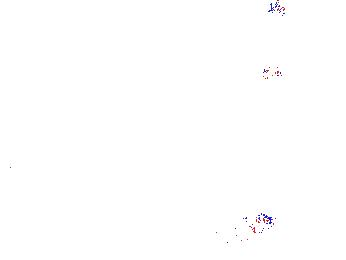X-ray fish: (217, 212, 273, 251)
red belly glassfish: (248, 63, 284, 81), (268, 1, 288, 20)
redtail glassfish: (119, 130, 177, 162)
